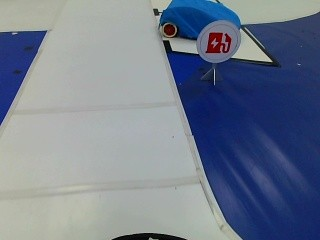battery: (198, 23, 240, 60)
car: (155, 0, 242, 37)
